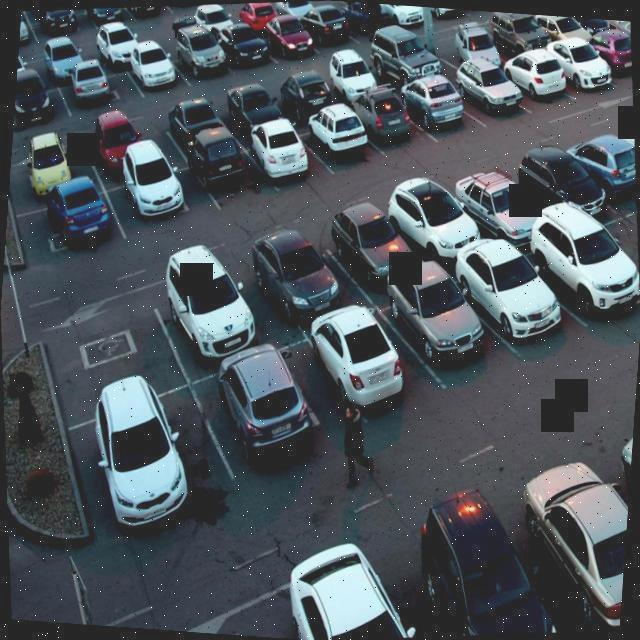car: (74, 380, 206, 534), (294, 299, 427, 429), (212, 334, 314, 476), (450, 239, 563, 359), (147, 262, 262, 376), (531, 218, 640, 328), (232, 222, 354, 320), (392, 267, 491, 369), (386, 168, 486, 266), (329, 198, 424, 290), (548, 118, 640, 211), (28, 176, 120, 266), (111, 154, 204, 238), (514, 142, 608, 216), (456, 173, 540, 253), (76, 108, 168, 178), (394, 64, 480, 138), (491, 44, 578, 116), (154, 87, 239, 157), (184, 124, 262, 200), (298, 96, 380, 166), (358, 24, 443, 90), (243, 115, 320, 187), (316, 40, 392, 111), (9, 142, 89, 208), (160, 19, 234, 90), (546, 31, 616, 106), (450, 55, 527, 122), (273, 56, 343, 128), (352, 81, 424, 148), (216, 10, 284, 80), (436, 12, 502, 78), (124, 34, 190, 99), (220, 74, 286, 138), (64, 47, 130, 111), (260, 0, 324, 66), (476, 11, 550, 63), (38, 20, 99, 83), (12, 76, 64, 140), (294, 0, 358, 52), (580, 22, 634, 80), (90, 10, 144, 66), (31, 4, 89, 44), (336, 1, 392, 42), (192, 0, 239, 46), (373, 3, 434, 34), (15, 44, 46, 96), (238, 0, 279, 39), (414, 6, 476, 28), (81, 3, 130, 29), (266, 0, 311, 25), (120, 2, 170, 23), (17, 12, 38, 58), (164, 2, 202, 18)
free: (49, 288, 182, 416), (134, 12, 183, 62), (309, 0, 348, 14)
